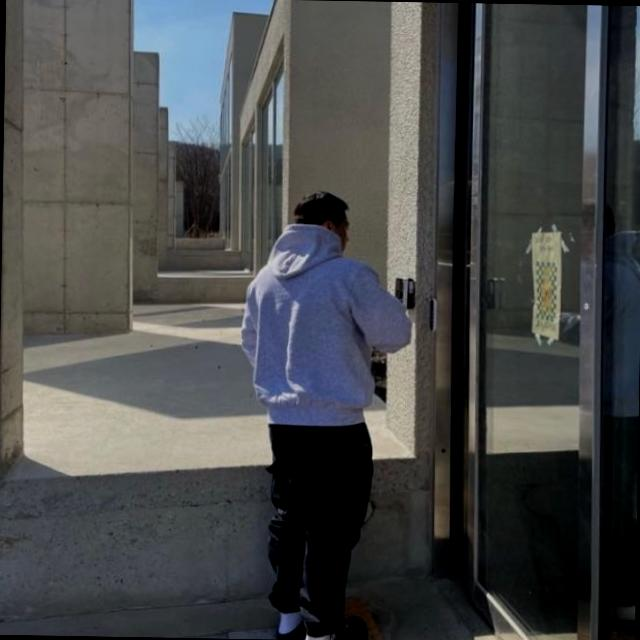cottonpants: (260, 413, 370, 634)
hoodies: (238, 219, 414, 424)
